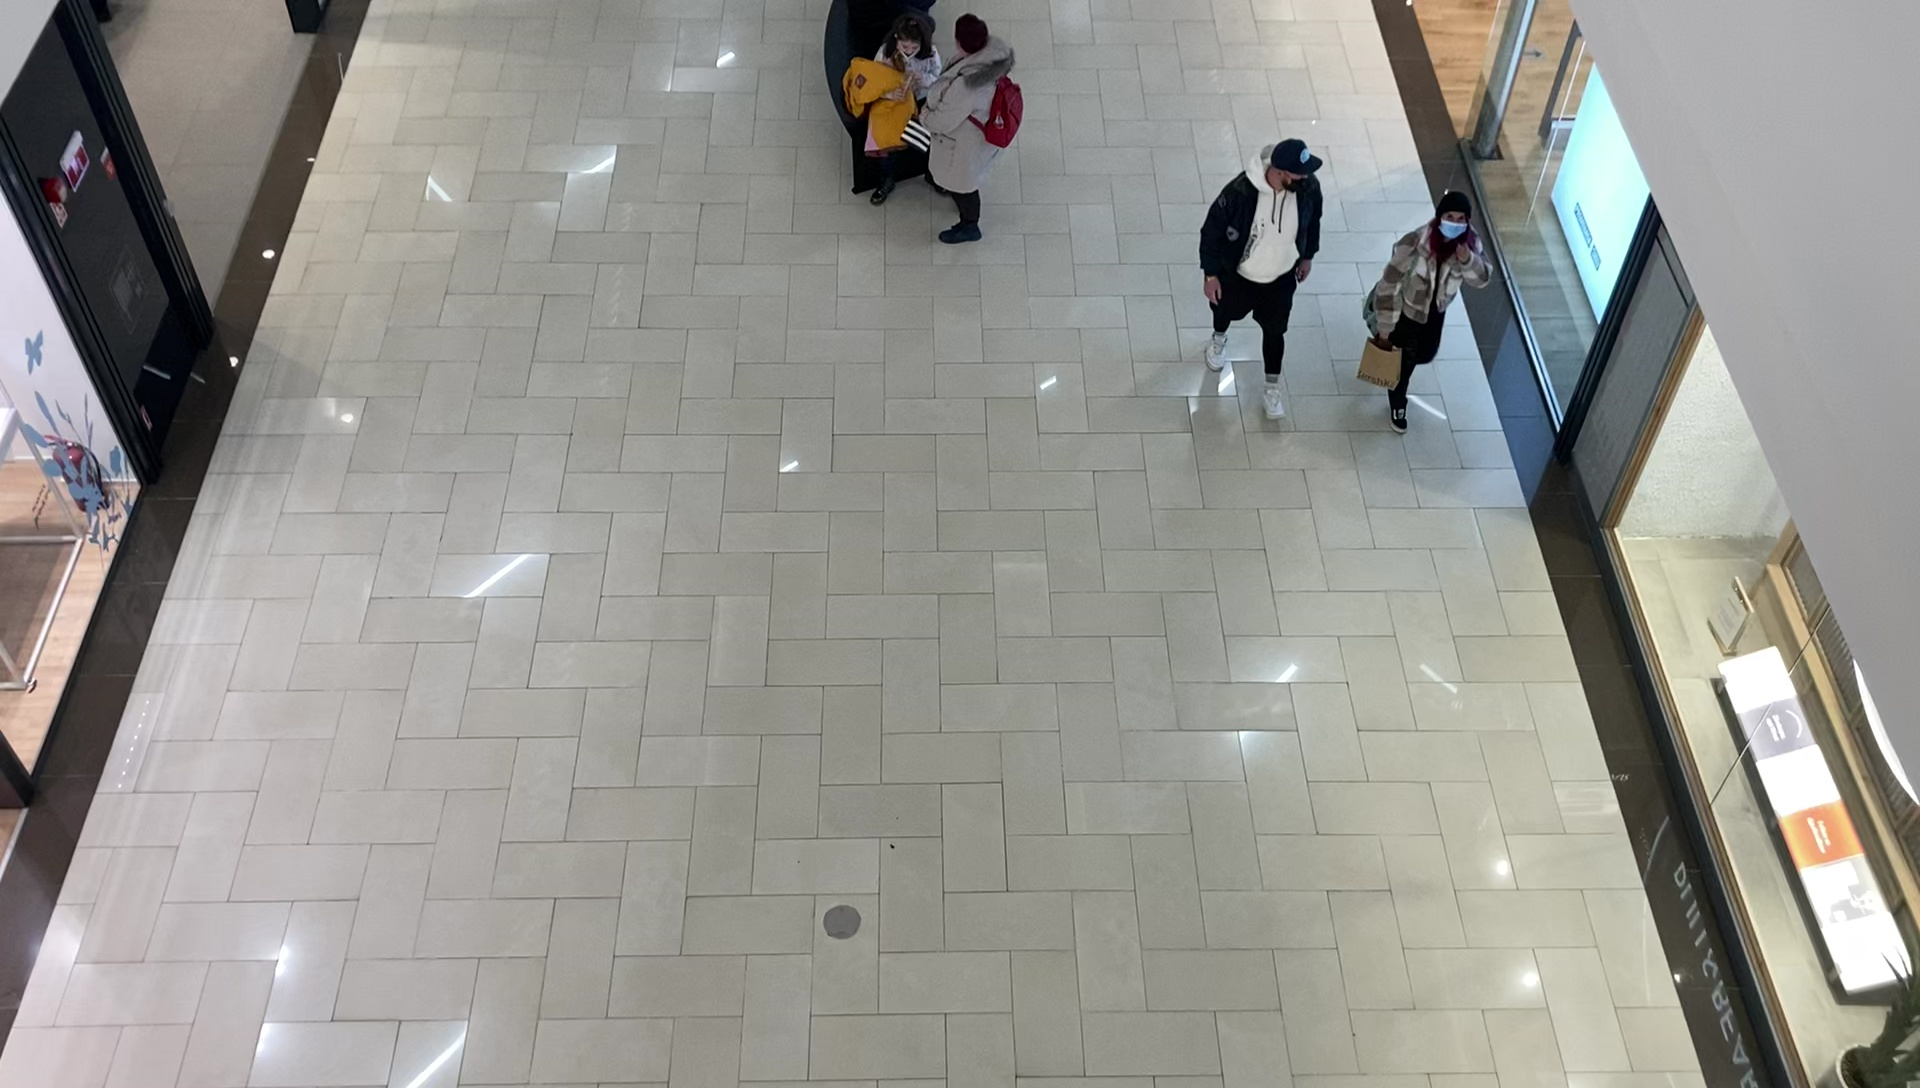person: (1198, 140, 1324, 421), (1361, 190, 1494, 436), (928, 14, 1024, 243)
